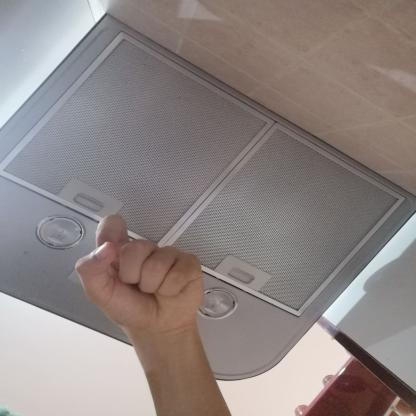FAA: (61, 208, 221, 346)
